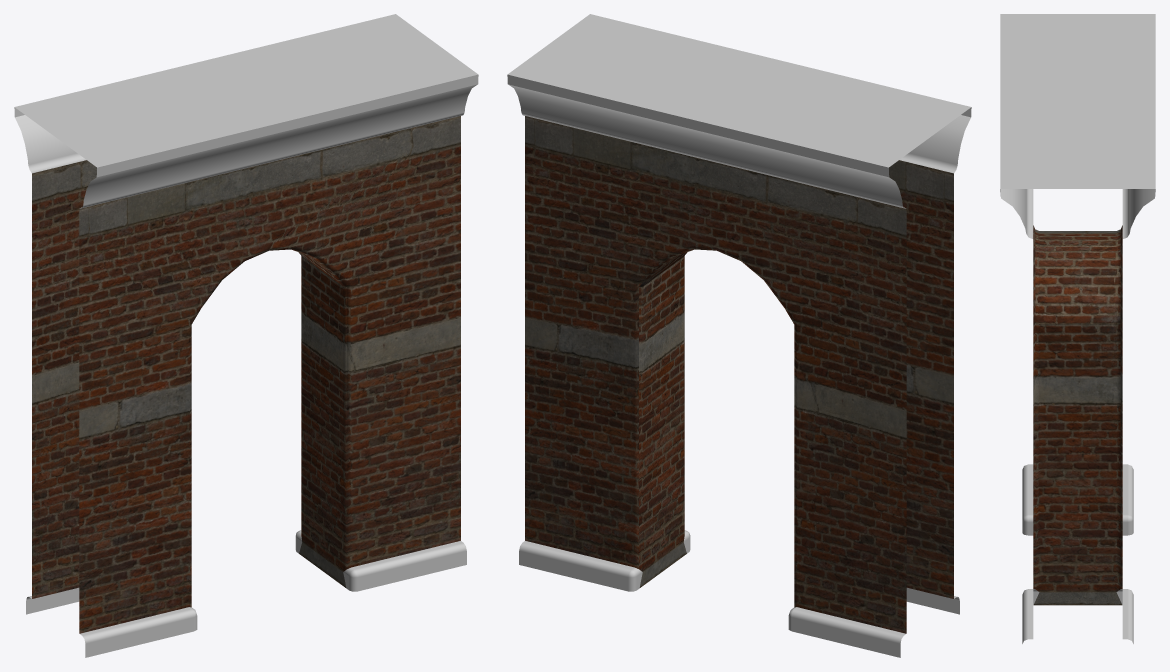
The model's file is msp_tunnel_wall_modular_opening.fbx.
3 views of the same model, side by side, from view 1: azimuth 30°, elevation 25°; view 2: azimuth 150°, elevation 25°; view 3: azimuth 270°, elevation 25° (orthographic). The views are drawn at different scales.
Visible parts, largest first — view 1: msp_tunnel_wall_modular_opening; view 2: msp_tunnel_wall_modular_opening; view 3: msp_tunnel_wall_modular_opening.
Boxes of the visible parts, <box> form: msp_tunnel_wall_modular_opening: <box>14,14,478,657</box>; msp_tunnel_wall_modular_opening: <box>507,14,971,657</box>; msp_tunnel_wall_modular_opening: <box>1000,14,1155,643</box>.
Bounding box in the file's own units: 4 × 5 × 1.5.
